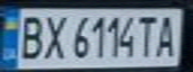1: (87, 12, 106, 59), (106, 12, 124, 59)
4: (118, 12, 139, 59)
6: (69, 12, 90, 60)
A: (154, 11, 181, 58)
B: (12, 11, 48, 61)
T: (136, 12, 160, 59)
X: (39, 11, 69, 61)
